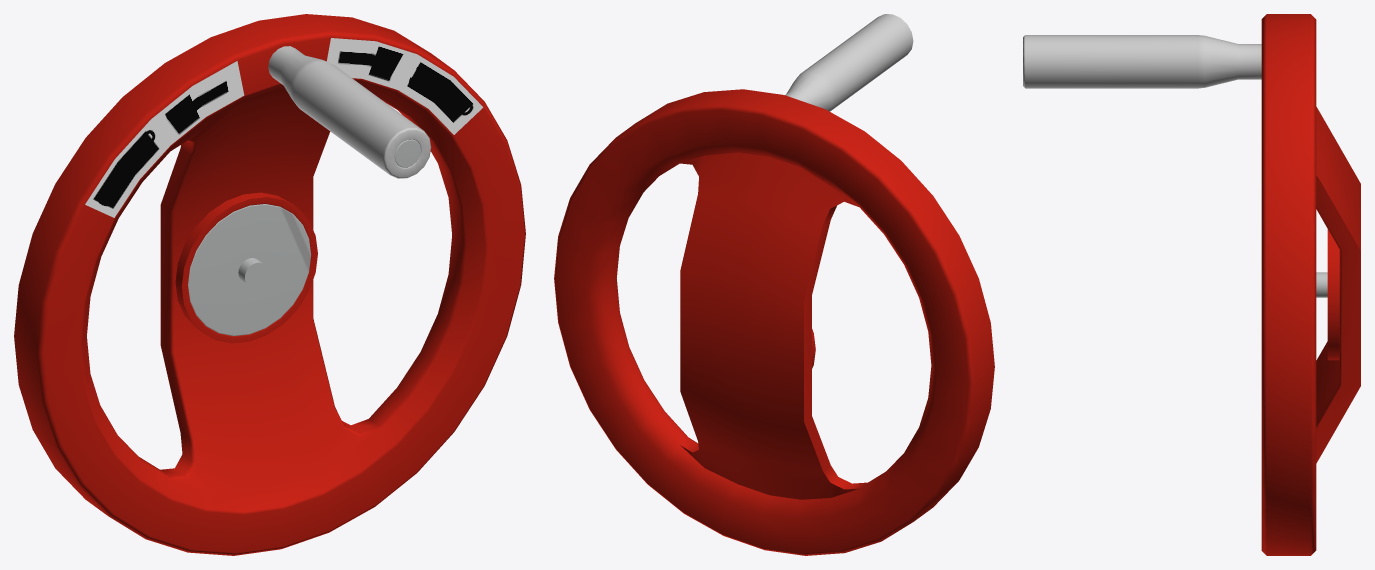
File: TOGPA_Valve.fbx
3 renders of one model, left to right at view 1: azimuth 30°, elevation 25°; view 2: azimuth 150°, elevation 25°; view 3: azimuth 270°, elevation 25°, orthographic. The views are drawn at different scales.
Parts seen in each view (by area): view 1: Valve.001; view 2: Valve.001; view 3: Valve.001.
Boxes of the visible parts, x1,y1,x2,y2 form: Valve.001: (14,14,525,555); Valve.001: (554,14,994,555); Valve.001: (1023,14,1360,555).
Bounding box in the file's own units: 23 × 23.08 × 14.33.
